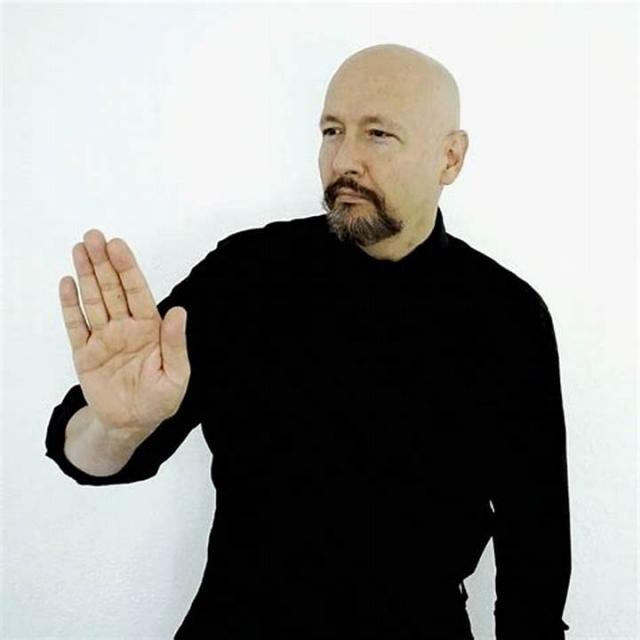your: (58, 229, 192, 418)
